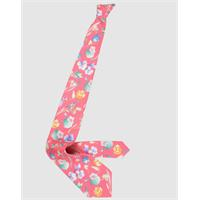tie: (46, 3, 130, 197)
